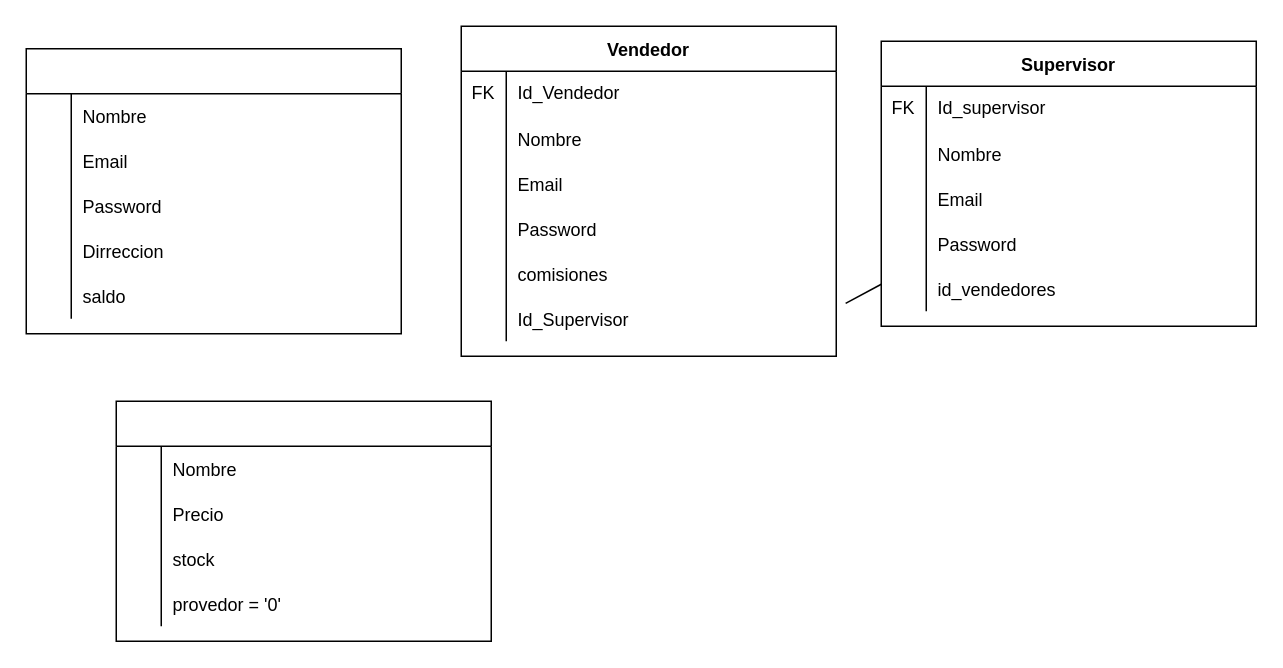
The diagram is 1283 pixels wide and 668 high, and some of its shapes have lost their labels. The shapes that lost their labels are listed below. From the top down, each one's box as (x1, y1, x2, y2) in pixels, then its label:
(25, 47, 401, 334): Cliente
(115, 400, 491, 641): Prodcto
